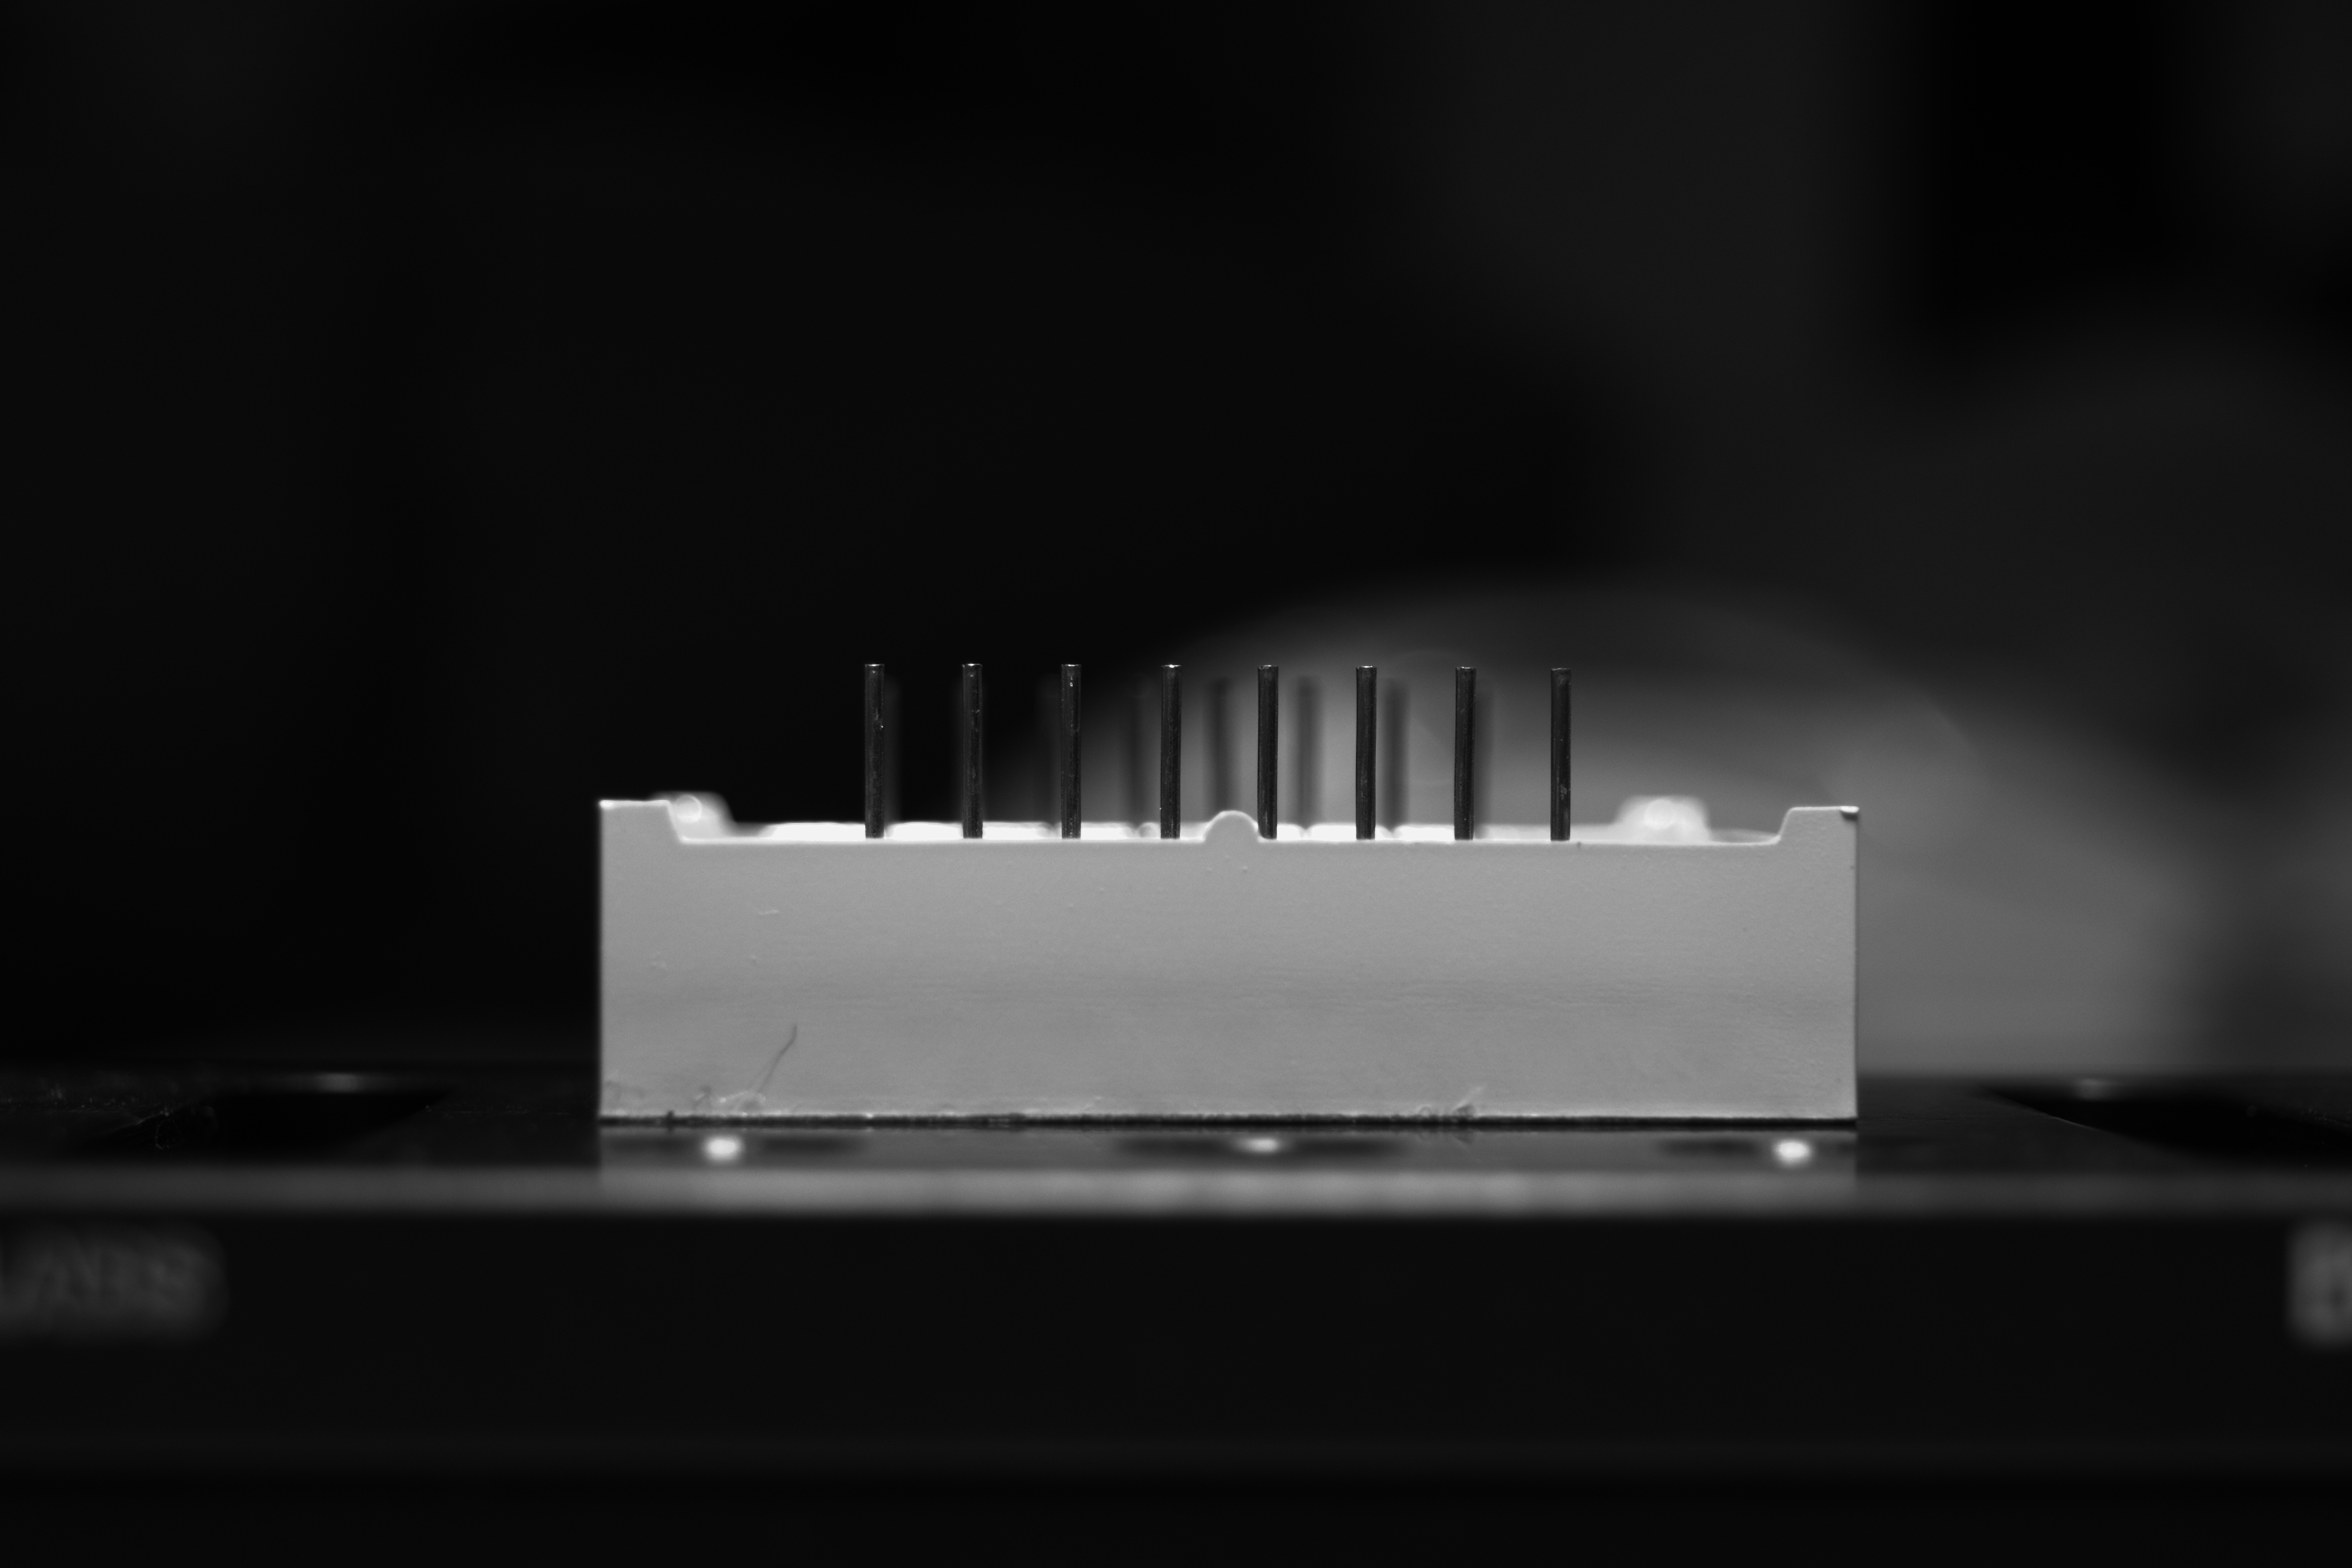Component: (593, 647, 1872, 1129)
